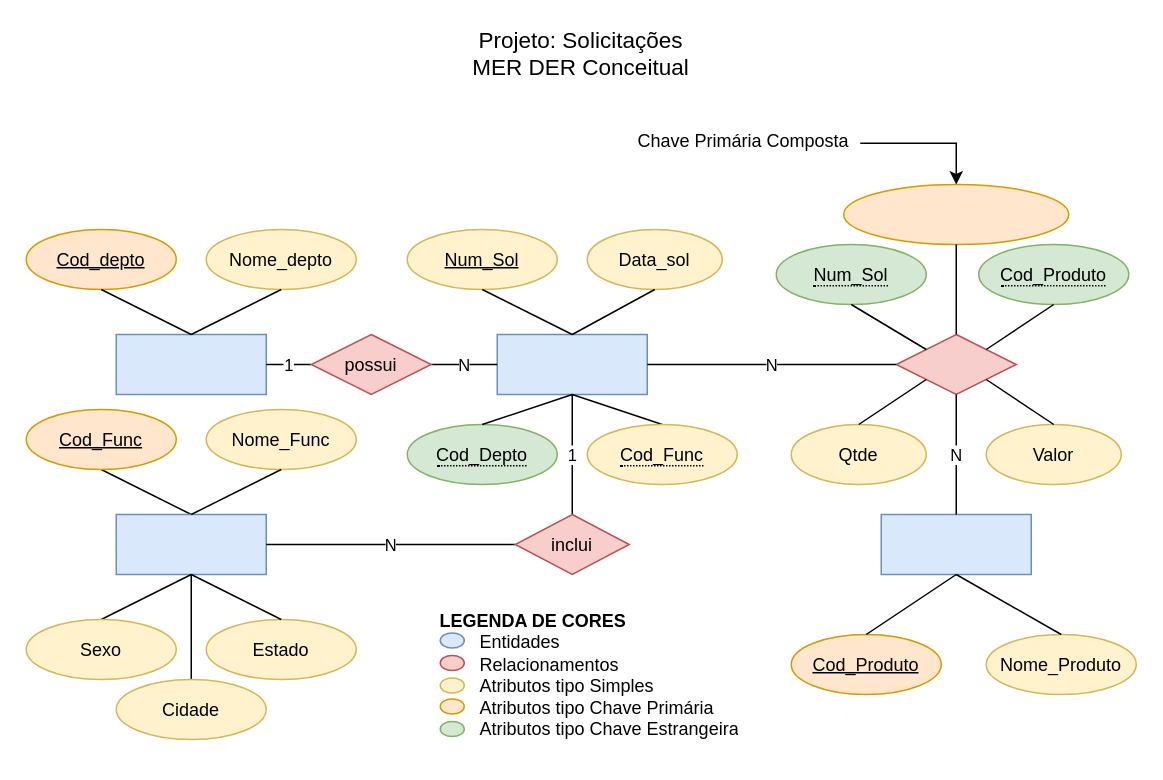
Some shapes in this 1163 by 780 pixel diagram are drawn without their labels. Here are the shapes that lost their labels. From the top down, the centre of each, then its label:
point (955, 213): Num_Sol, Cod_Produto
point (190, 363): Funcionários
point (571, 363): Solicitacoes
point (955, 363): itens
point (190, 543): Departamentos
point (955, 543): Produtos
